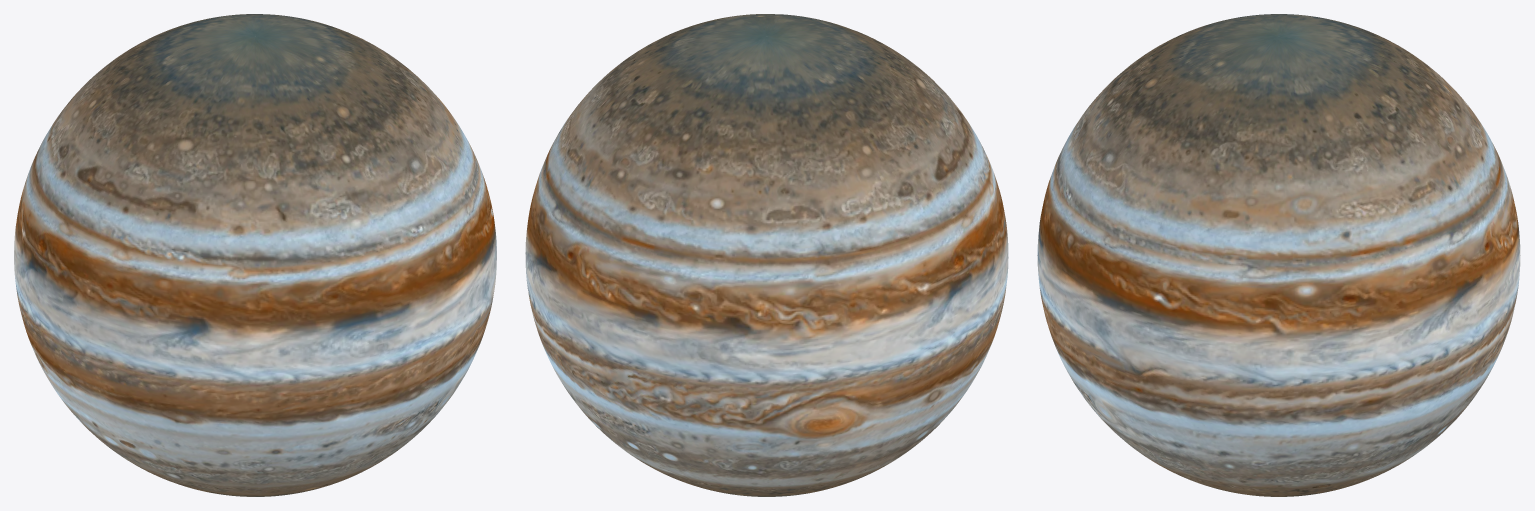
The model's file is jupiter.glb.
3 renders of one model, left to right at view 1: azimuth 30°, elevation 25°; view 2: azimuth 150°, elevation 25°; view 3: azimuth 270°, elevation 25°, orthographic.
Parts seen in each view (by area): view 1: pSphere1.1; view 2: pSphere1.1; view 3: pSphere1.1.
Boxes of the visible parts, x1,y1,x2,y2 form: pSphere1.1: (14, 14, 496, 496); pSphere1.1: (525, 14, 1008, 496); pSphere1.1: (1037, 14, 1520, 496).
Size of the model in its own units: 0.2 by 0.2 by 0.2.
1 material, 1 textured.
